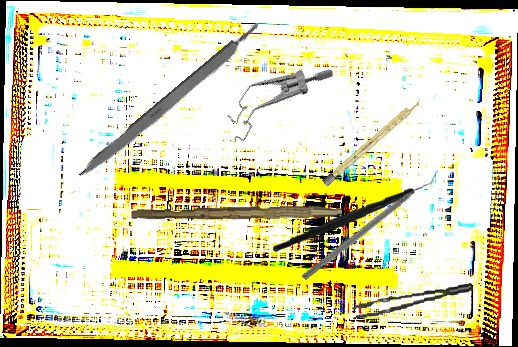Chopper: (269, 168, 444, 253)
Hook Surgical: (301, 177, 432, 282)
Scalpel Handle: (76, 20, 265, 184), (321, 97, 424, 187), (131, 201, 343, 224)
Speculum: (215, 34, 337, 169)
Tissue Forceps: (350, 283, 475, 319)
